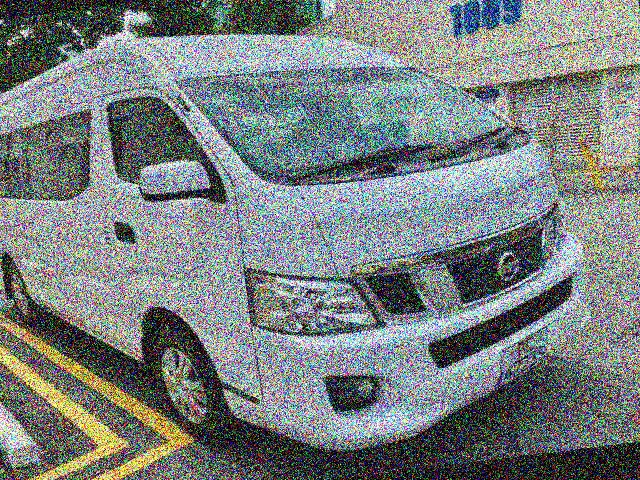van: (0, 0, 600, 475)
